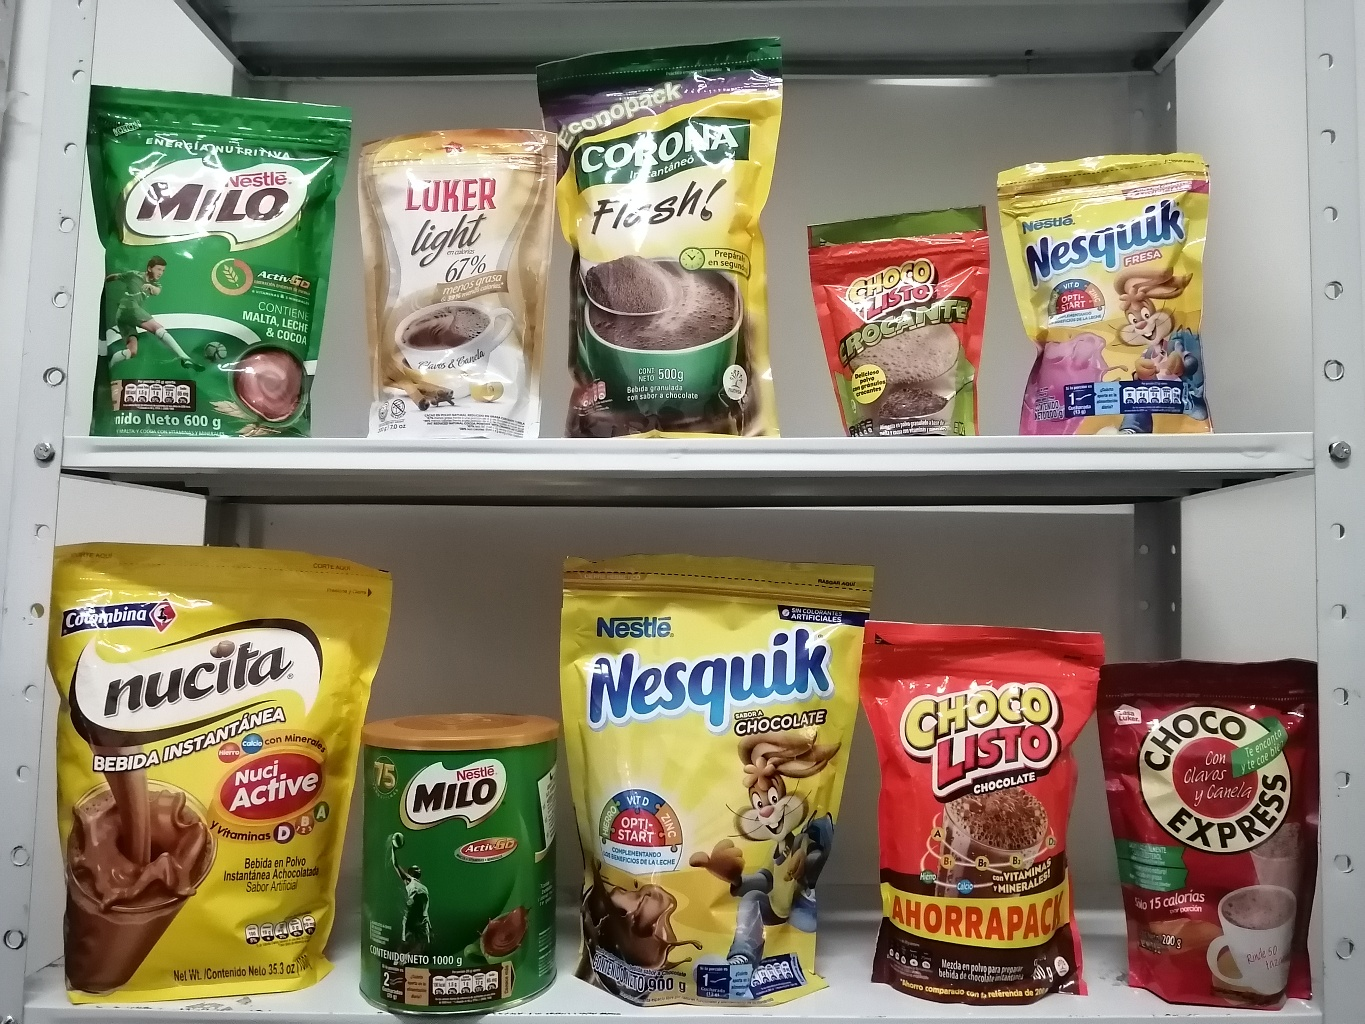COL0170102DYP10000: (805, 195, 998, 438)
COL0170103DYP40000: (847, 596, 1129, 1018)
COL0170305DYP20000: (992, 132, 1241, 440)
